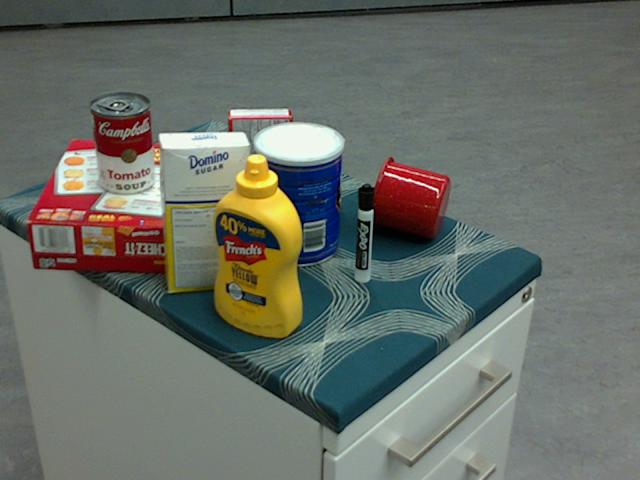cracker_box: (25, 139, 195, 274)
gelatin_box: (227, 109, 291, 164)
large_marker: (356, 183, 374, 283)
master_chef_can: (252, 121, 342, 266)
mug: (367, 155, 450, 238)
mustard_bottle: (214, 153, 302, 338)
potted_meat_can: (260, 133, 342, 214)
sugar_box: (157, 130, 249, 292)
tomato_soup_can: (89, 92, 154, 195)
tuna_fish_can: (185, 148, 228, 218)
